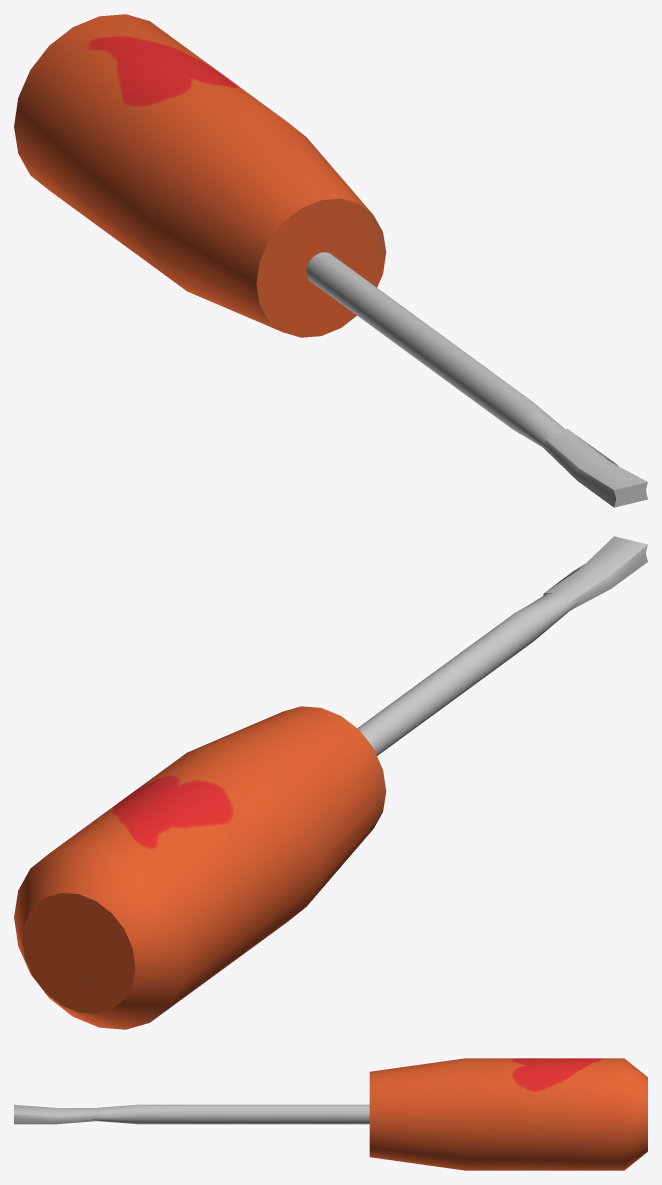
Rendered from screwdriver.fbx.
3 renders of one model, top to bottom at view 1: azimuth 30°, elevation 25°; view 2: azimuth 150°, elevation 25°; view 3: azimuth 270°, elevation 25°, orthographic. The views are drawn at different scales.
Parts seen in each view (by area): view 1: pCylinder3; view 2: pCylinder3; view 3: pCylinder3.
Boxes of the visible parts, <box> form: pCylinder3: <box>14,14,647,507</box>; pCylinder3: <box>14,536,647,1029</box>; pCylinder3: <box>14,1058,647,1170</box>.
Bounding box in the file's own units: 8.79 × 8.79 × 49.15.
Materials: 1 (1 with a texture image).
